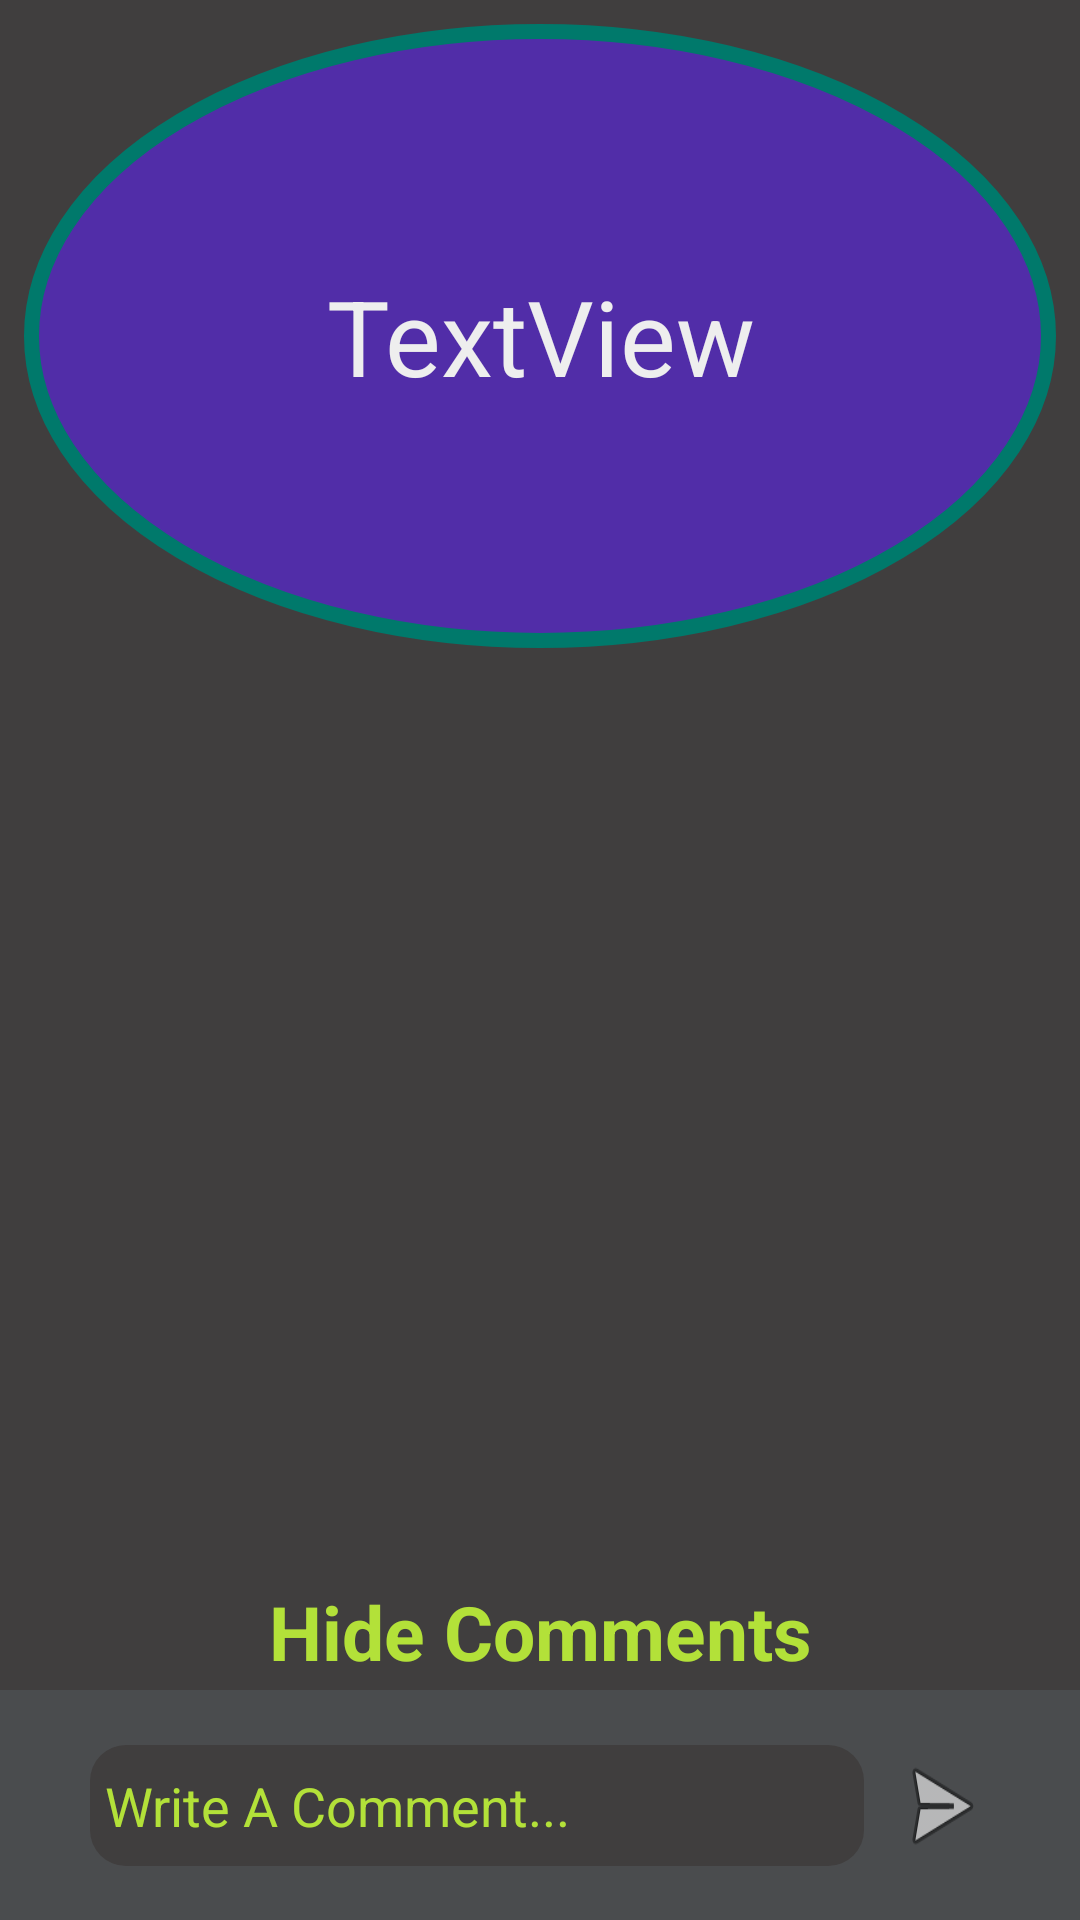

Point at icon controls on the screen. Image size 1080px×1920px, points as (x,y).
send: (943,1806)
